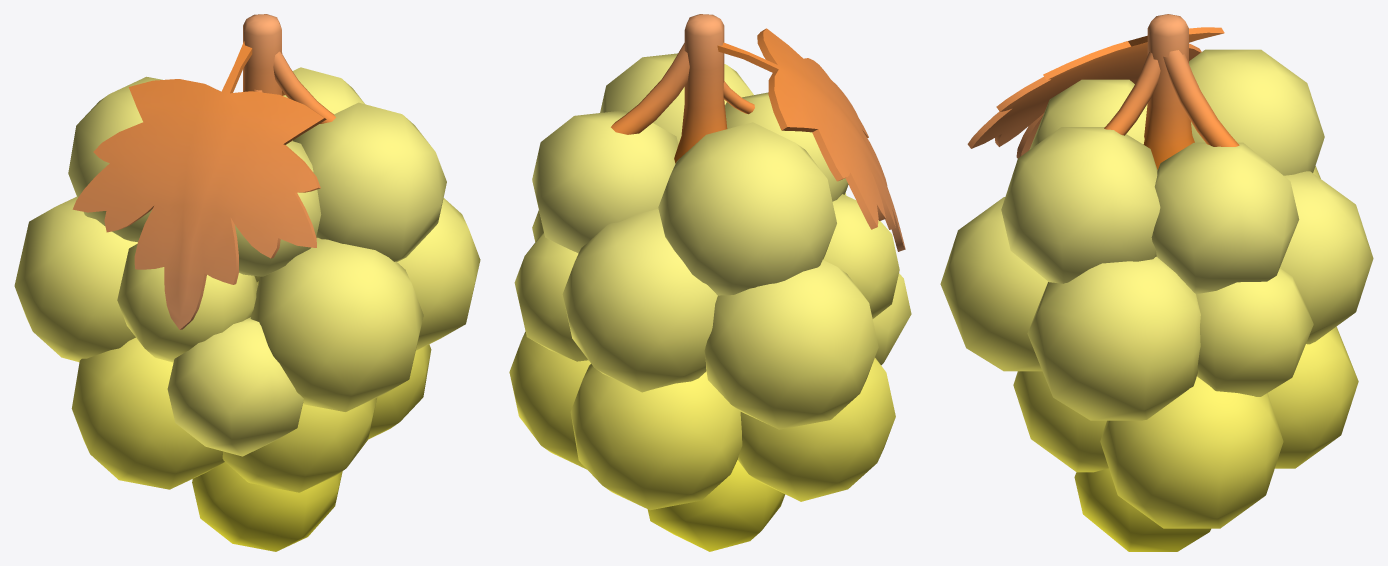
Rendered from Grape_pink.fbx.
3 views of the same model, side by side, from view 1: azimuth 30°, elevation 25°; view 2: azimuth 150°, elevation 25°; view 3: azimuth 270°, elevation 25° (orthographic).
Parts seen in each view (by area): view 1: Grape_pink; view 2: Grape_pink; view 3: Grape_pink.
Boxes of the visible parts, x1=… form: Grape_pink: x1=14, y1=14, x2=480, y2=551; Grape_pink: x1=509, y1=14, x2=911, y2=551; Grape_pink: x1=940, y1=14, x2=1373, y2=551.
Bounding box in the file's own units: 124 × 165 × 122.
